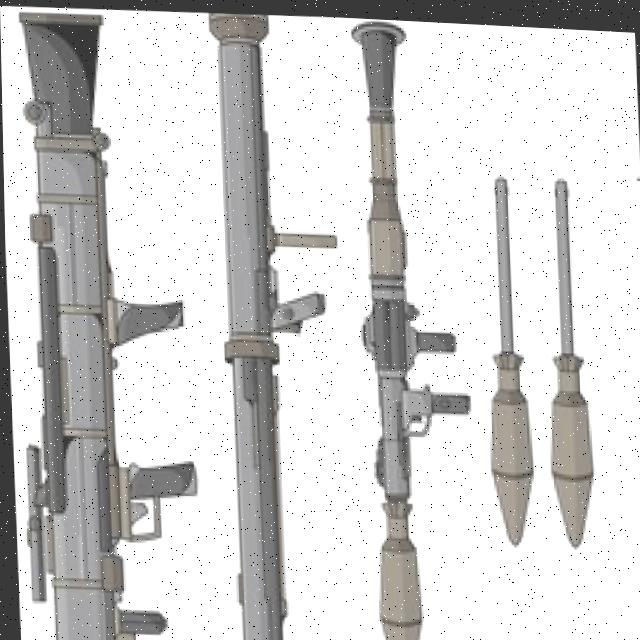grenade: (474, 165, 537, 544), (537, 169, 598, 551), (368, 497, 419, 640)
rocket: (0, 2, 201, 640), (201, 8, 351, 640), (339, 14, 472, 499)
